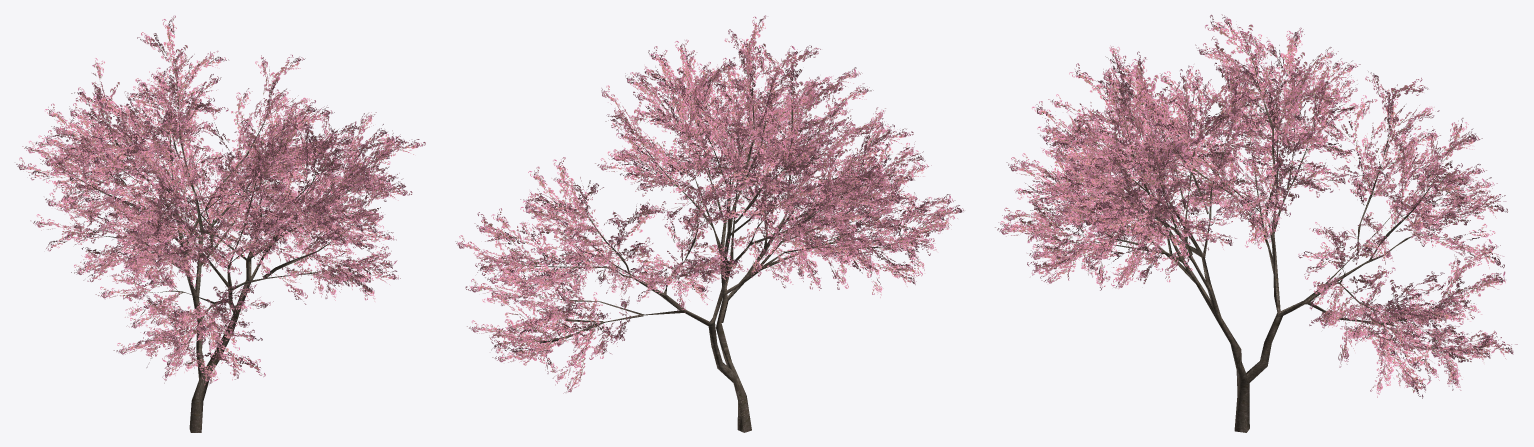
The model's file is cargo_cherry.glb.
The picture shows the model from 3 angles, left to right: view 1: azimuth 30°, elevation 25°; view 2: azimuth 150°, elevation 25°; view 3: azimuth 270°, elevation 25°; orthographic projection. The views are drawn at different scales.
Parts seen in each view (by area): view 1: KB3D_SHG_VegCherryBlossomTree_A_Main; view 2: KB3D_SHG_VegCherryBlossomTree_A_Main; view 3: KB3D_SHG_VegCherryBlossomTree_A_Main.
Boxes of the visible parts, x1,y1,x2,y2 form: KB3D_SHG_VegCherryBlossomTree_A_Main: (16,15,425,432); KB3D_SHG_VegCherryBlossomTree_A_Main: (455,15,963,432); KB3D_SHG_VegCherryBlossomTree_A_Main: (995,14,1517,432).
Bounding box in the file's own units: 8.39 × 7.65 × 9.5.
2 materials, 2 textured.
